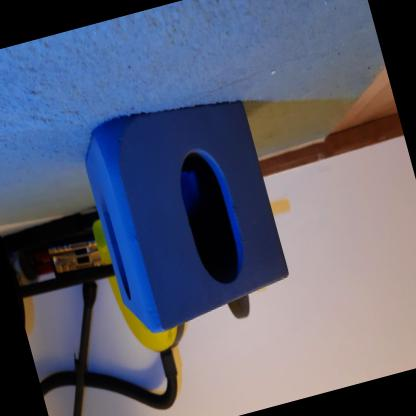CornerCasting: (67, 78, 300, 341)
